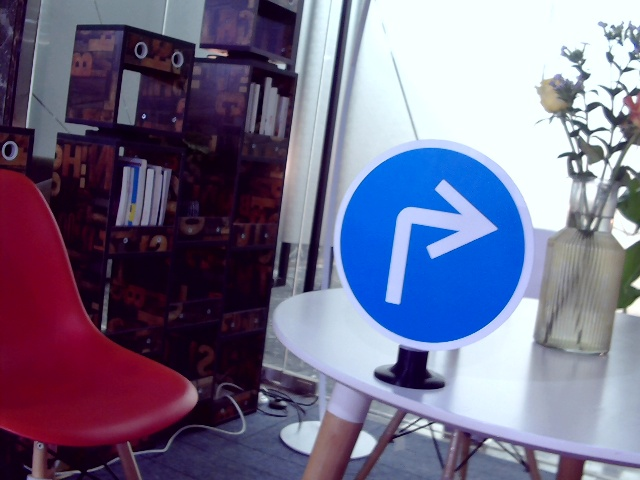turn_right: (384, 174, 495, 303)
